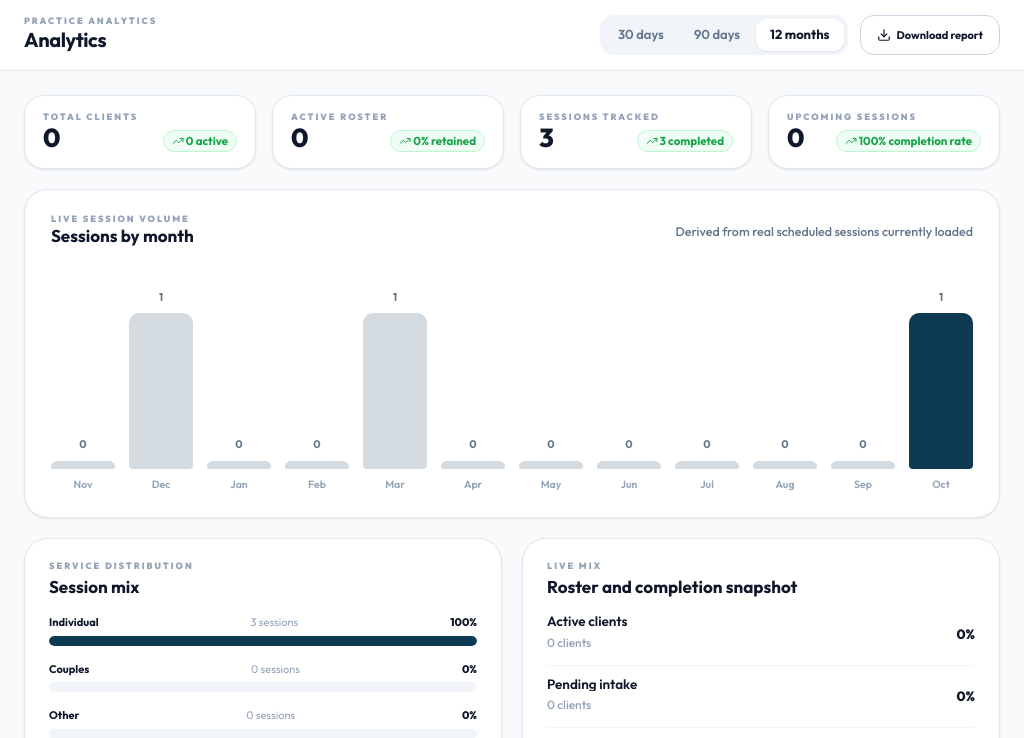
Test case: the range control › changes the figures when the range changes
This screenshot has width=1024, height=738.
Click the tab "30 days" at {"x": 641, "y": 35}, box [604,19,678,51]
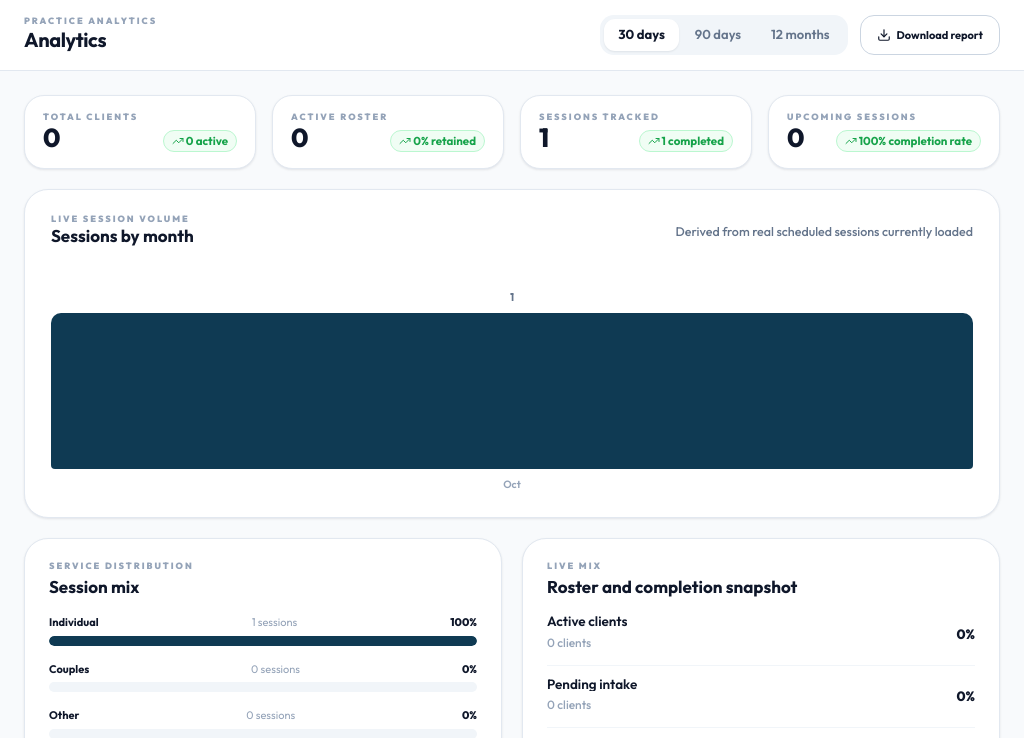
Result: the element showing "1 1 completed" is shown at [539,125,733,152]
